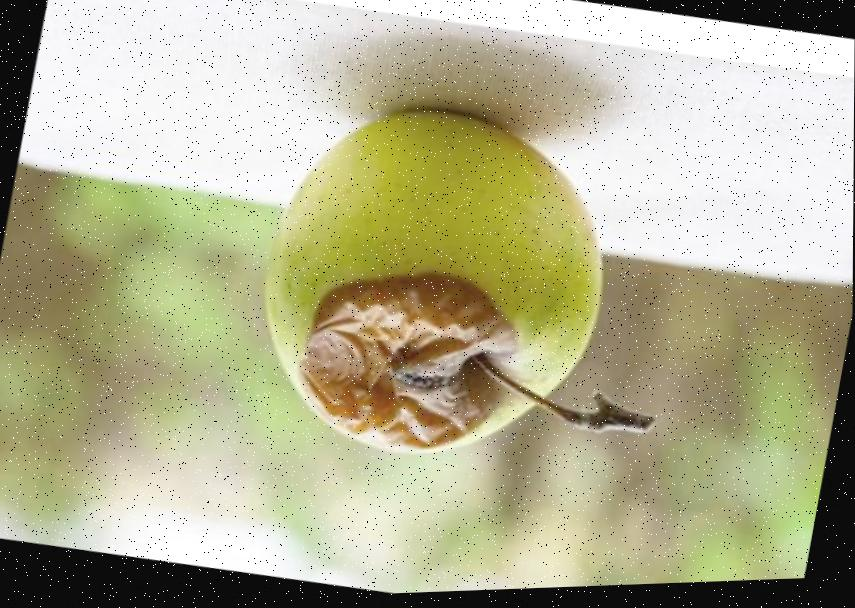ROT: (216, 59, 645, 510)
